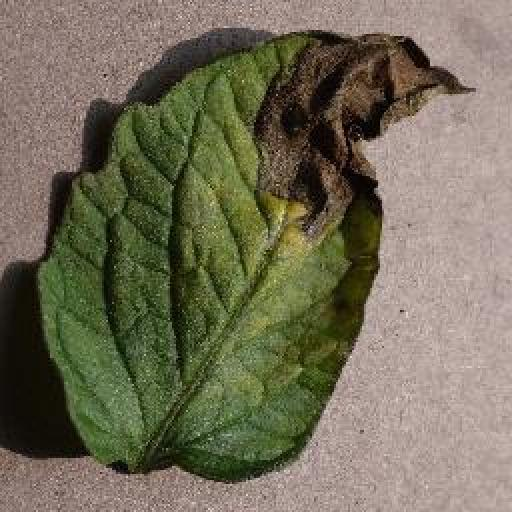Late Blight: (40, 28, 477, 483)
